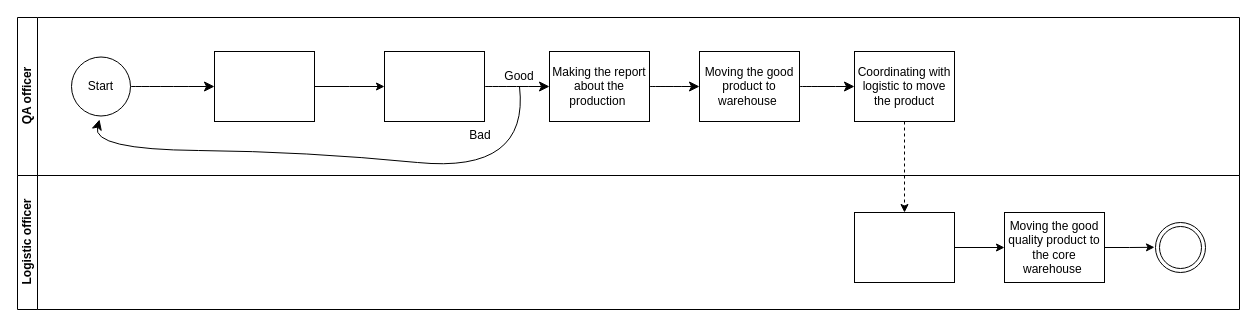
Some shapes in this 1257 by 327 pixel diagram are drawn without their labels. The box of each missing label's shape, as (x1, y1, x2, y2) in pixels:
Checking the quality ot the product: (384, 50, 484, 122)
End: (1154, 222, 1206, 272)
Receive the schedule: (854, 212, 954, 282)
Receiving the product from producer: (214, 50, 314, 122)
